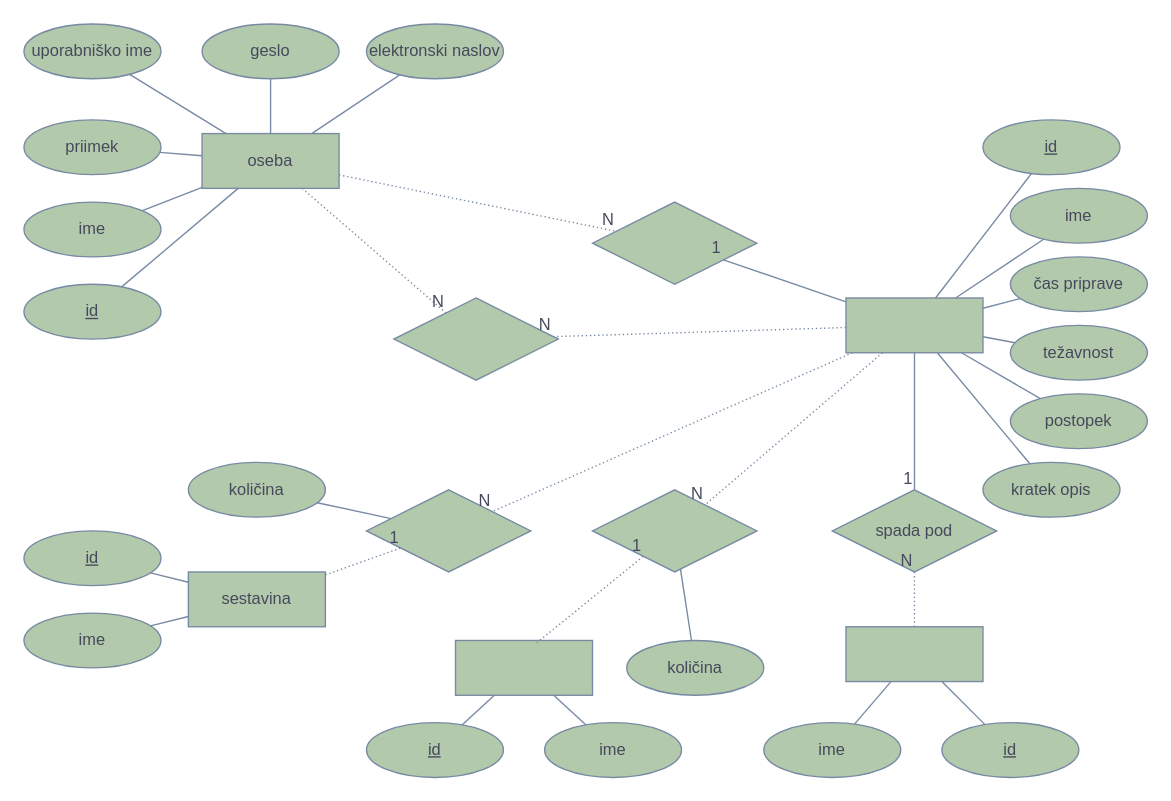
This 1171x801 diagram has some shape labels left out. The shapes that lost their labels are listed below. From the top down, each one's centre as x and y in pixels, then its label:
pixel 674 242: je avtor
pixel 475 338: priljubljeno
pixel 914 325: sladica
pixel 448 530: vsebuje
pixel 674 530: potrebuješ
pixel 523 667: pripomoček
pixel 914 653: kategorija
